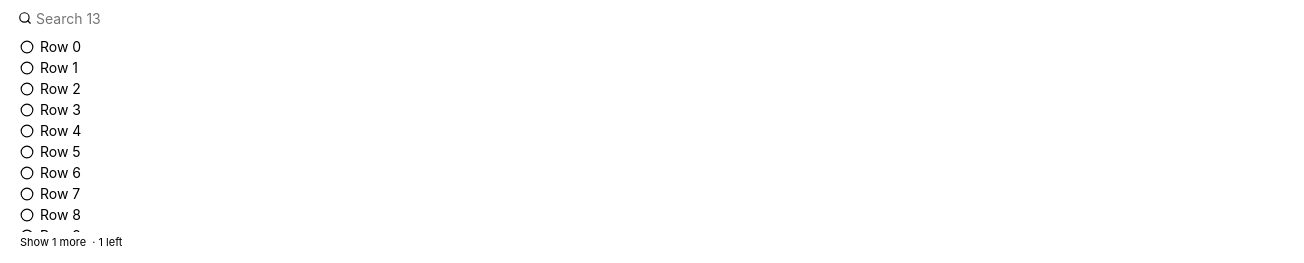
the search › matches a row's note as well as its words
Type "12 memories" into the search field at (652, 18), box left=12, top=4, right=1292, bottom=32
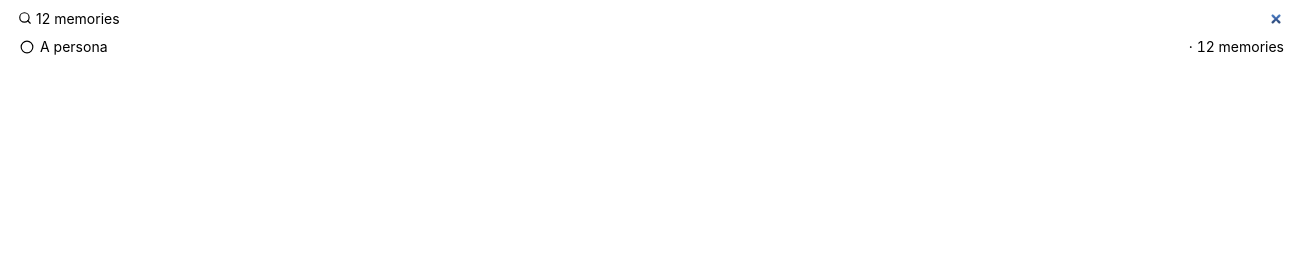
Now the number of list items is 1, box left=12, top=36, right=1292, bottom=57
